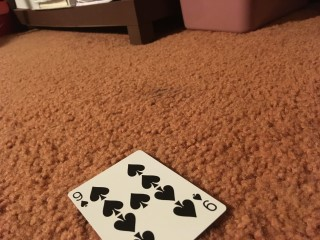NineOfSpades: (68, 150, 225, 240)
